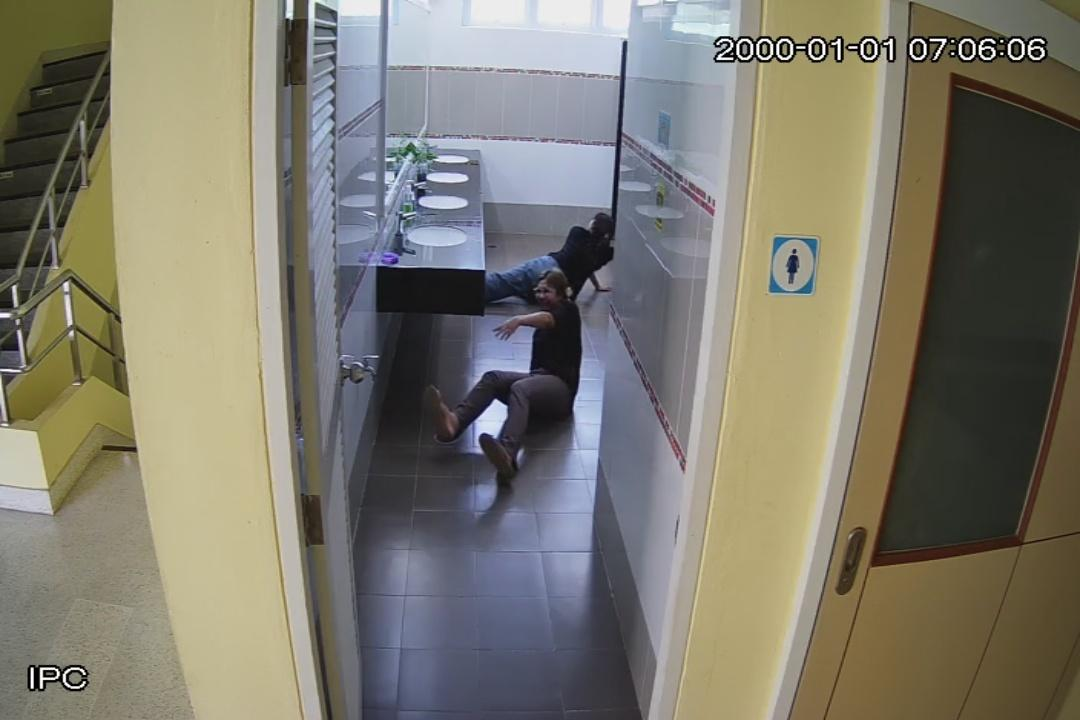fall: (436, 270, 579, 479), (489, 210, 611, 302)
